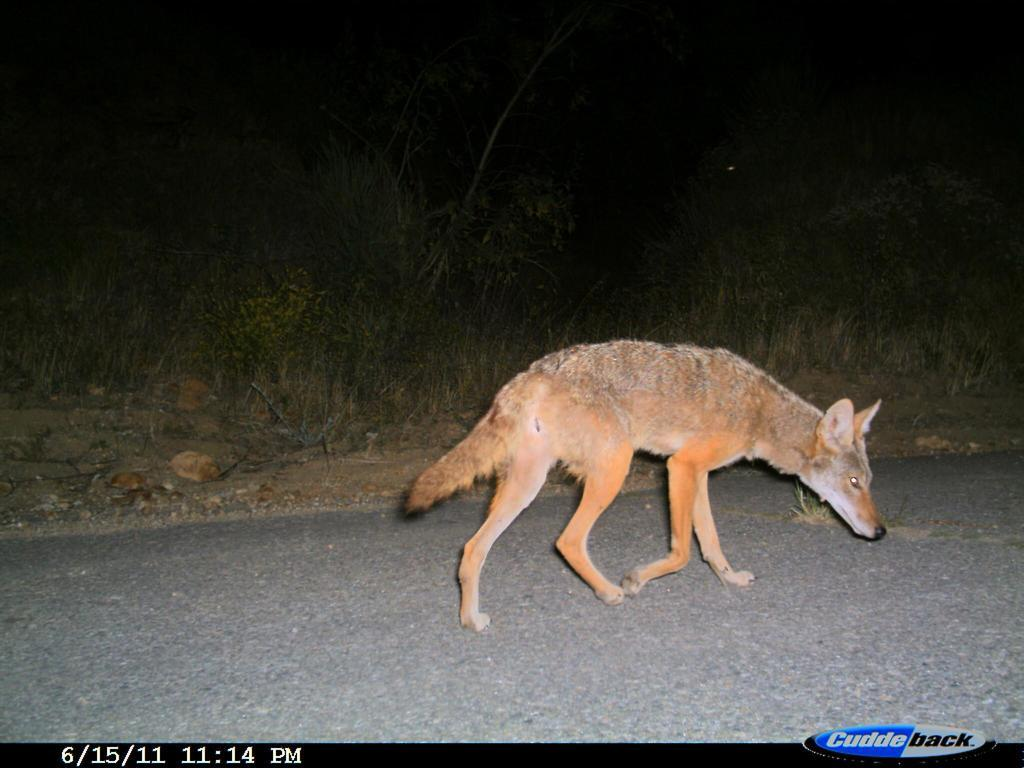coyote: (379, 329, 893, 642)
